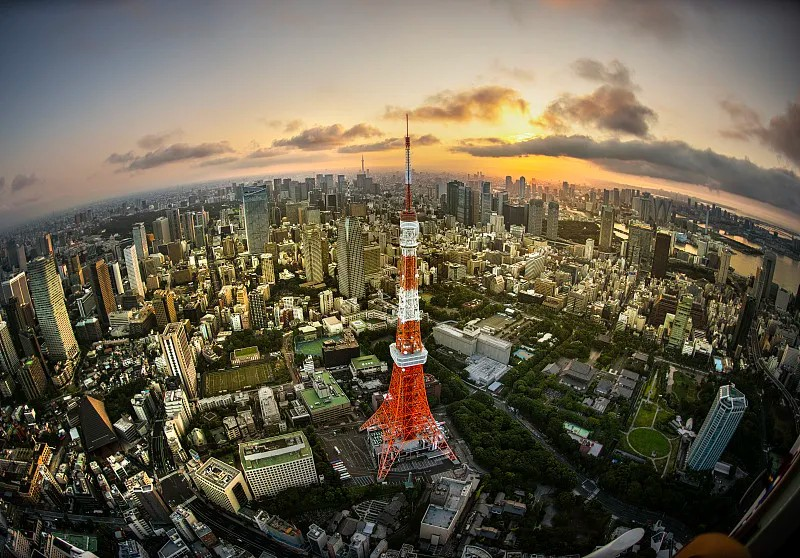Tokyo: (355, 112, 457, 481)
